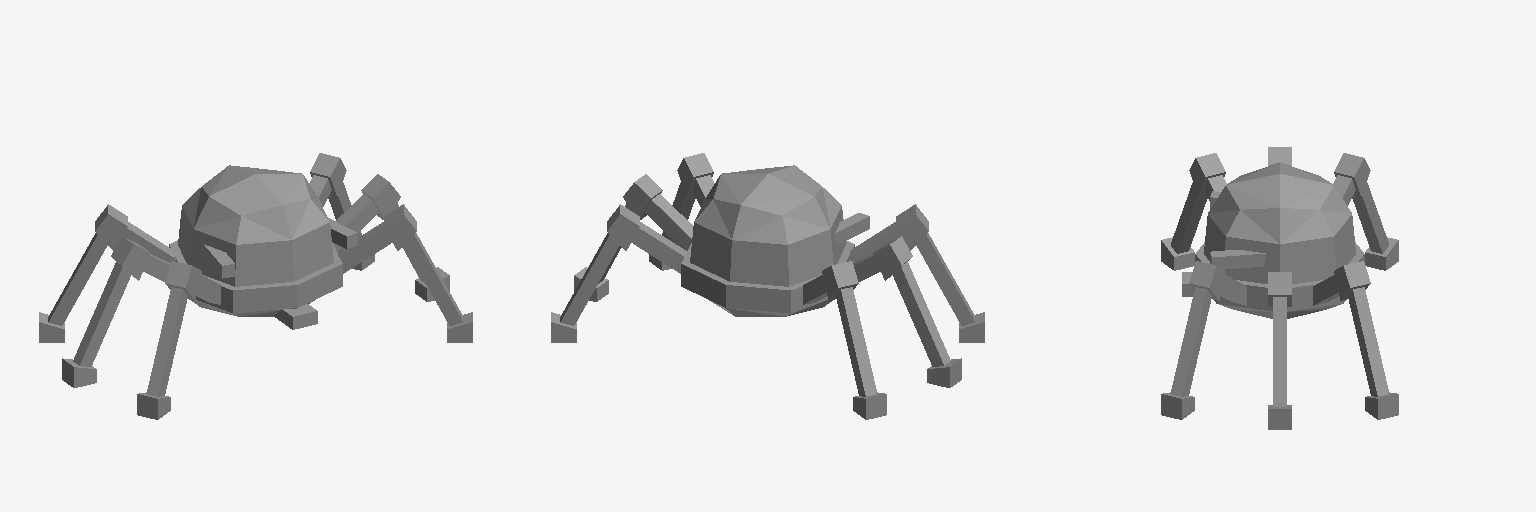
File: asmodi.obj
The picture shows the model from 3 angles: view 1: azimuth 30°, elevation 25°; view 2: azimuth 150°, elevation 25°; view 3: azimuth 270°, elevation 25°; orthographic projection.
Visible parts, largest first — view 1: Head, Base, FrontLeftLeg, MiddleRightLeg, FrontRightLeg, BackRightLeg, MiddleLeftLeg, BackLeftLeg, RightArm, LeftArm; view 2: Head, BackLeftLeg, MiddleRightLeg, Base, BackRightLeg, FrontRightLeg, MiddleLeftLeg, FrontLeftLeg, RightArm; view 3: Head, BackLeftLeg, FrontLeftLeg, BackRightLeg, FrontRightLeg, MiddleLeftLeg, Base, LeftArm.
Part boxes in pixels (x1,y1,x2,y2): Head: (178, 165, 333, 286); Base: (169, 240, 342, 329); FrontLeftLeg: (337, 204, 472, 342); MiddleRightLeg: (62, 236, 170, 387); FrontRightLeg: (137, 261, 220, 419); BackRightLeg: (39, 204, 175, 342); MiddleLeftLeg: (332, 174, 449, 301); BackLeftLeg: (309, 153, 374, 270); RightArm: (203, 244, 234, 278); LeftArm: (328, 218, 357, 248); Head: (690, 165, 845, 286); BackLeftLeg: (551, 204, 686, 342); MiddleRightLeg: (853, 236, 961, 387); Base: (681, 241, 854, 316); BackRightLeg: (803, 261, 886, 419); FrontRightLeg: (848, 204, 984, 342); MiddleLeftLeg: (574, 174, 692, 301); FrontLeftLeg: (649, 153, 714, 270); RightArm: (834, 213, 869, 245); Head: (1204, 162, 1355, 283); BackLeftLeg: (1313, 261, 1398, 419); FrontLeftLeg: (1161, 261, 1246, 419); BackRightLeg: (1333, 153, 1398, 270); FrontRightLeg: (1161, 153, 1226, 270); MiddleLeftLeg: (1268, 272, 1291, 429); Base: (1182, 242, 1364, 318); LeftArm: (1210, 250, 1265, 269).
Size of the model in its own units: 5.13 by 2.15 by 2.81.